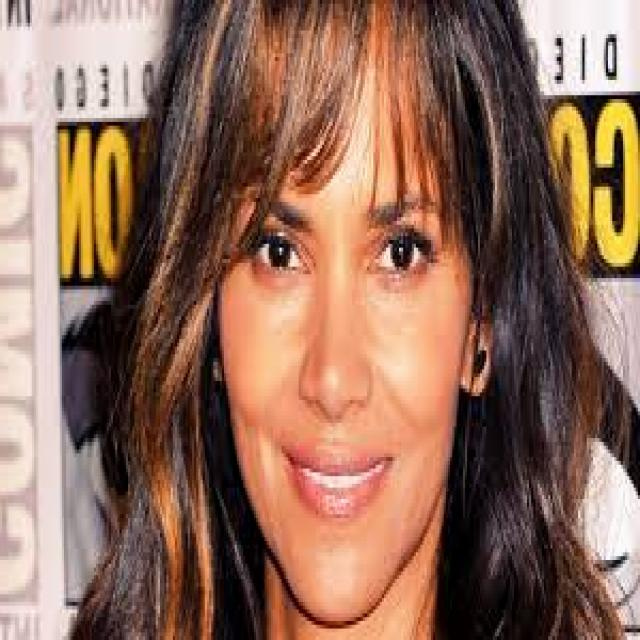normal_face: (164, 1, 502, 626)
